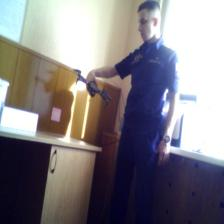drone: (70, 58, 113, 109)
